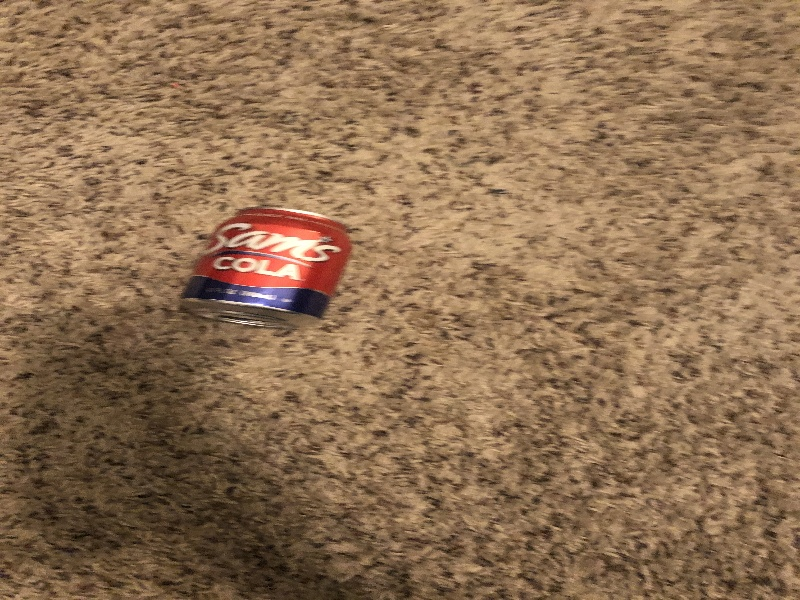metal: (176, 201, 357, 335)
